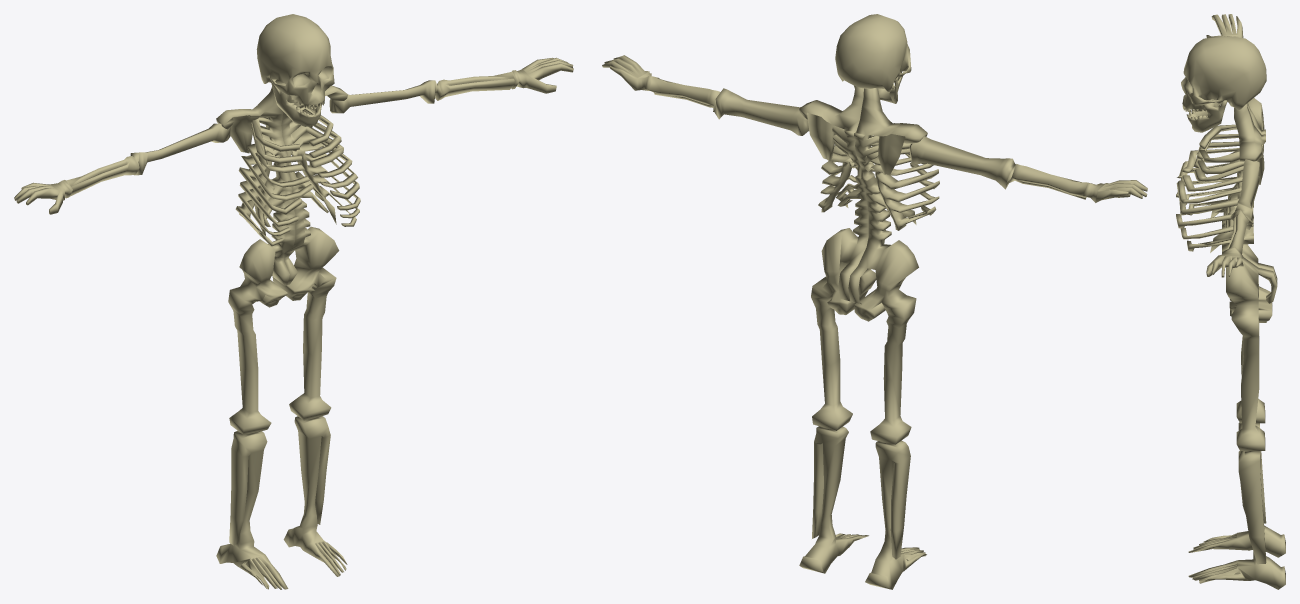
The model's file is skeleton.fbx.
The picture shows the model from 3 angles, left to right: view 1: azimuth 30°, elevation 25°; view 2: azimuth 150°, elevation 25°; view 3: azimuth 270°, elevation 25°; orthographic projection. The views are drawn at different scales.
Parts seen in each view (by area): view 1: body; view 2: body; view 3: body.
Part boxes in pixels (x1,y1,x2,y2): body: (14, 14, 573, 589); body: (602, 14, 1147, 589); body: (1176, 14, 1285, 589).
Bounding box in the file's own units: 227 × 216 × 40.47.
